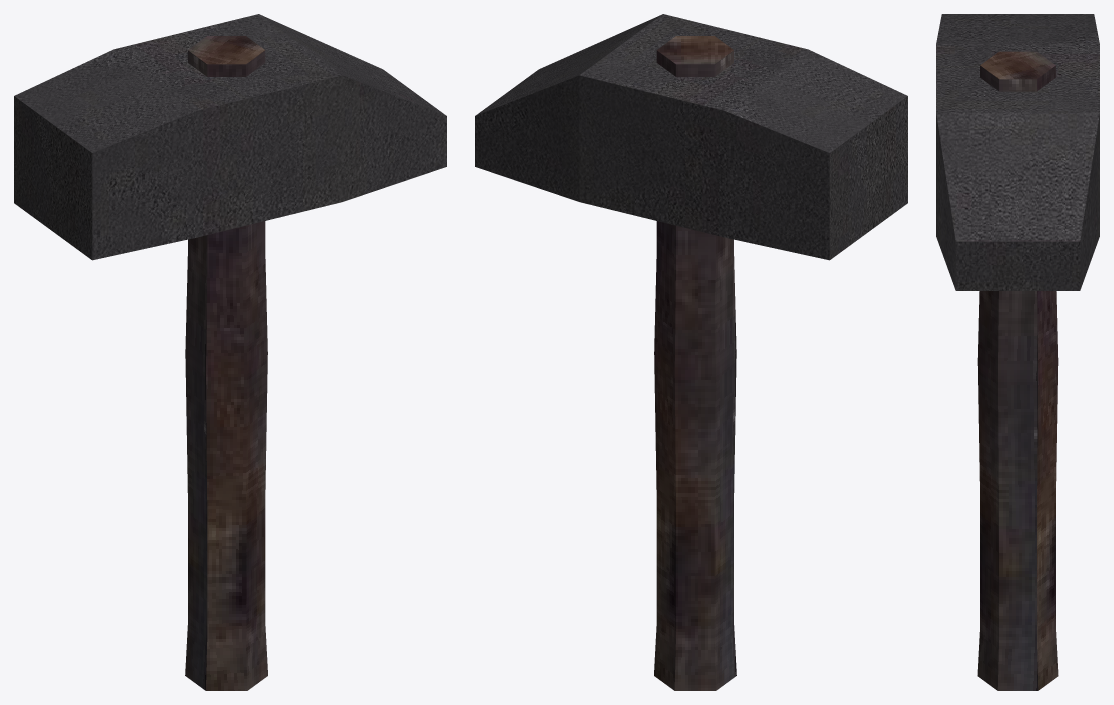
Rendered from strike_hammer.glb.
3 views of the same model, side by side, from view 1: azimuth 30°, elevation 25°; view 2: azimuth 150°, elevation 25°; view 3: azimuth 270°, elevation 25° (orthographic). The views are drawn at different scales.
Parts seen in each view (by area): view 1: SmithsHammer.001; view 2: SmithsHammer.001; view 3: SmithsHammer.001.
Boxes of the visible parts, x1=… form: SmithsHammer.001: x1=14, y1=14, x2=446, y2=690; SmithsHammer.001: x1=475, y1=14, x2=907, y2=690; SmithsHammer.001: x1=936, y1=14, x2=1099, y2=690.
Bounding box in the file's own units: 0.1915 × 0.3163 × 0.0769.
2 materials, 2 textured.
